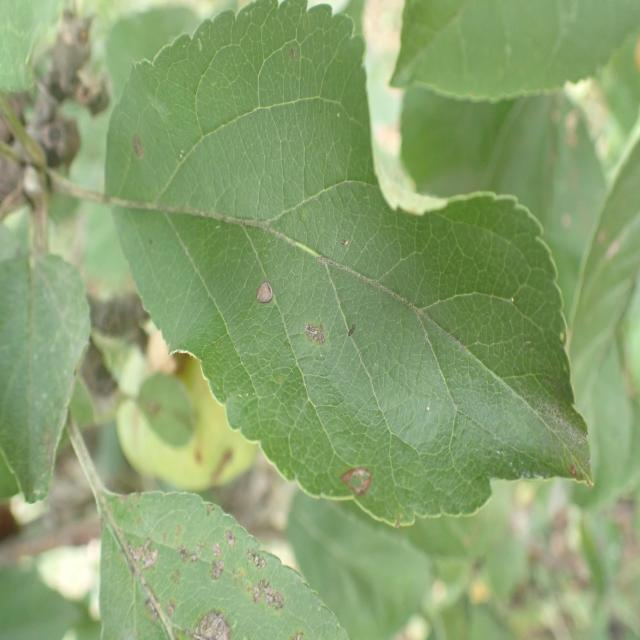frog-eye-leaf-spot: (104, 0, 596, 527), (99, 488, 350, 640)
